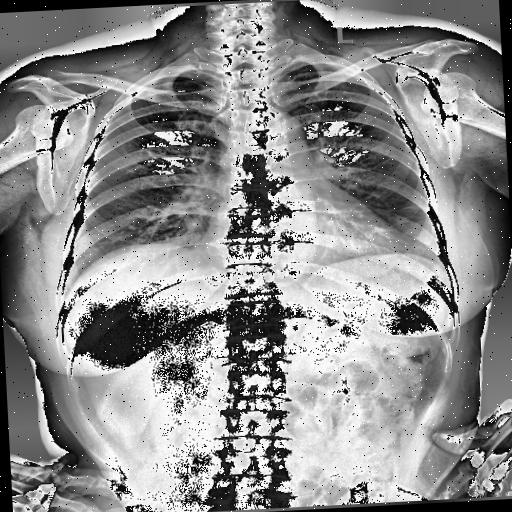0- Aortic enlargement: (252, 110, 308, 158)
3- Cardiomegaly: (196, 206, 408, 271), (194, 213, 406, 274), (202, 212, 413, 272)
